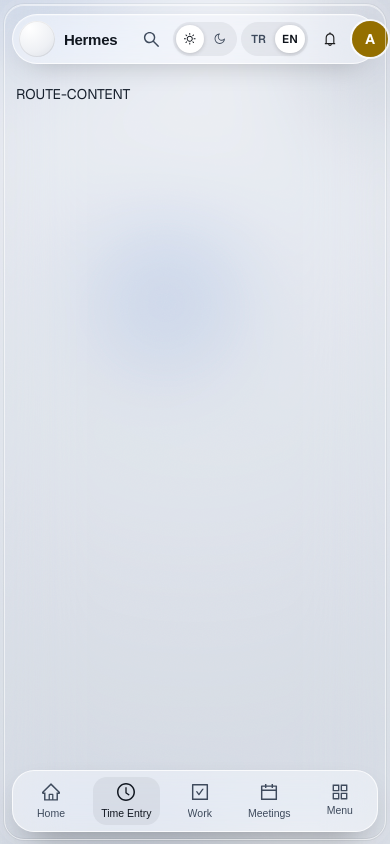
Test case: mobil drawer › mobilde ayni buton drawer acar (sidebar collapse DEGIL)
The width and height of the screenshot is (390, 844).
Step 1. Click the button with aria-label "Toggle navigation" → (340, 801), box [319, 777, 361, 825]
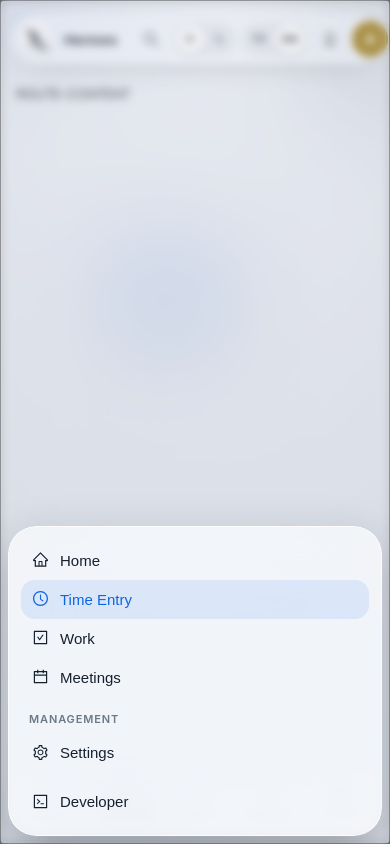
Expected: the dialog with class "mobile-nav-drawer" is shown, [8, 526, 382, 836]
